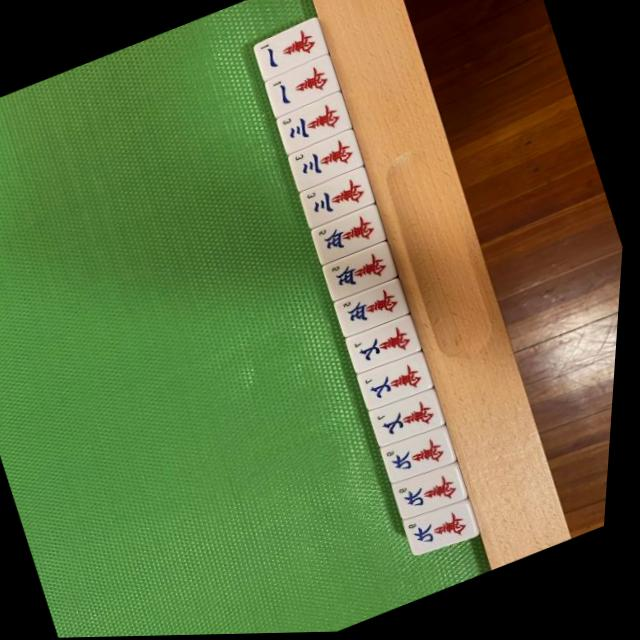sc1: (262, 54, 343, 119), (252, 21, 329, 79)
sc3: (274, 93, 355, 157), (286, 131, 367, 194), (300, 169, 380, 232)
sc5: (323, 243, 402, 304), (312, 206, 391, 267), (335, 280, 413, 340)
sc7: (347, 316, 427, 377), (372, 390, 452, 450), (360, 354, 439, 414)
sc9: (396, 464, 475, 524), (385, 427, 464, 487), (408, 502, 486, 560)
